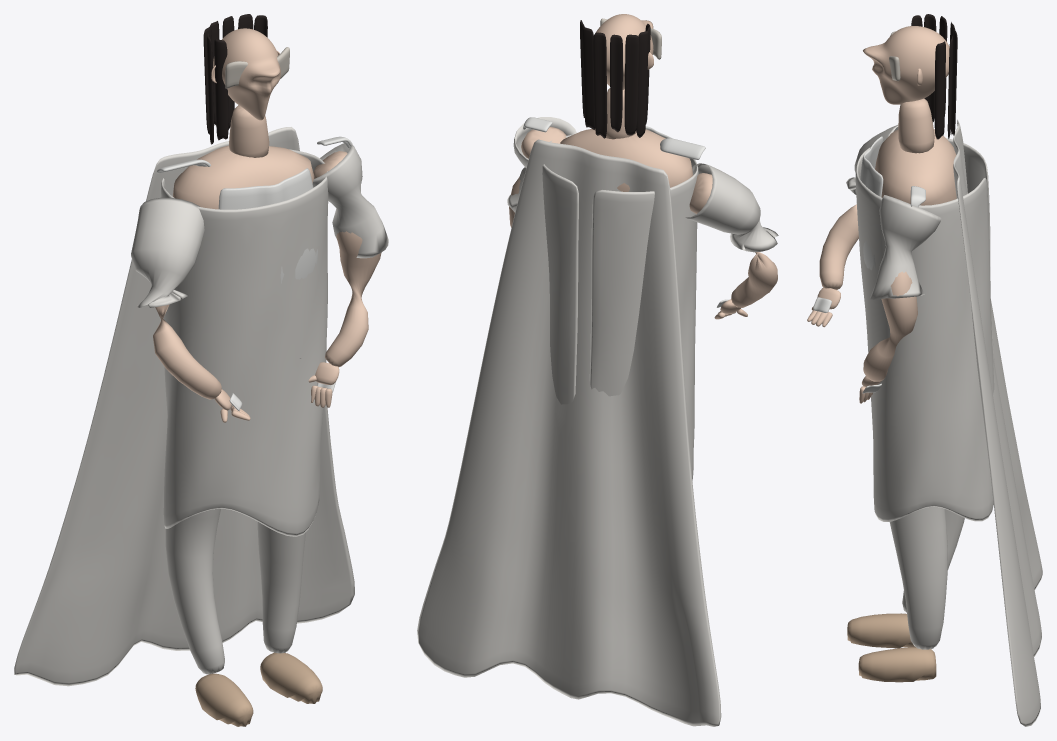
File: monolith_ruler.glb
The picture shows the model from 3 angles, left to right: view 1: azimuth 30°, elevation 25°; view 2: azimuth 150°, elevation 25°; view 3: azimuth 270°, elevation 25°; orthographic projection. The views are drawn at different scales.
Parts seen in each view (by area): view 1: Cape, Robe, LegR, SleeveR, Body, LegL, SleeveL, ArmL, Head, Plate, ArmR, BootL (+4 smaller); view 2: Cape, Robe, SleeveR, Body, ArmR, Hair4, Hair2, Head, Hair3, Hair1, Hair5, SleeveL (+2 smaller); view 3: Robe, Cape, LegL, Body, Head, SleeveL, ArmL, BootL, ArmR, BootR, Neck, Plate (+5 smaller).
Boxes of the visible parts, left/top/right/bottom form: Cape: left=14, top=127, right=354, bottom=686; Robe: left=161, top=149, right=328, bottom=536; LegR: left=165, top=508, right=224, bottom=674; SleeveR: left=131, top=197, right=204, bottom=307; Body: left=173, top=145, right=314, bottom=209; LegL: left=257, top=522, right=305, bottom=653; SleeveL: left=312, top=143, right=388, bottom=258; ArmL: left=313, top=151, right=381, bottom=367; Head: left=213, top=28, right=280, bottom=120; Plate: left=218, top=168, right=317, bottom=283; ArmR: left=153, top=304, right=221, bottom=399; BootL: left=260, top=652, right=322, bottom=703; Cape: left=417, top=139, right=721, bottom=726; Robe: left=542, top=134, right=698, bottom=480; SleeveR: left=685, top=163, right=778, bottom=252; Body: left=560, top=129, right=693, bottom=191; ArmR: left=689, top=173, right=777, bottom=307; Hair4: left=624, top=34, right=639, bottom=135; Hair2: left=593, top=32, right=607, bottom=138; Head: left=596, top=14, right=653, bottom=89; Hair3: left=610, top=34, right=622, bottom=132; Hair1: left=582, top=27, right=595, bottom=129; Hair5: left=636, top=30, right=648, bottom=137; SleeveL: left=507, top=117, right=576, bottom=212; Robe: left=855, top=138, right=994, bottom=521; Cape: left=953, top=119, right=1042, bottom=726; LegL: left=889, top=506, right=947, bottom=649; Body: left=875, top=129, right=956, bottom=205; Head: left=863, top=26, right=949, bottom=104; SleeveL: left=870, top=195, right=941, bottom=299; ArmL: left=863, top=271, right=917, bottom=381; BootL: left=858, top=647, right=936, bottom=682; ArmR: left=819, top=204, right=858, bottom=289; BootR: left=847, top=613, right=915, bottom=648; Neck: left=898, top=98, right=934, bottom=153; Plate: left=859, top=136, right=883, bottom=270.
Size of the model in its own units: 0.9804 by 1.9 by 0.6373.
